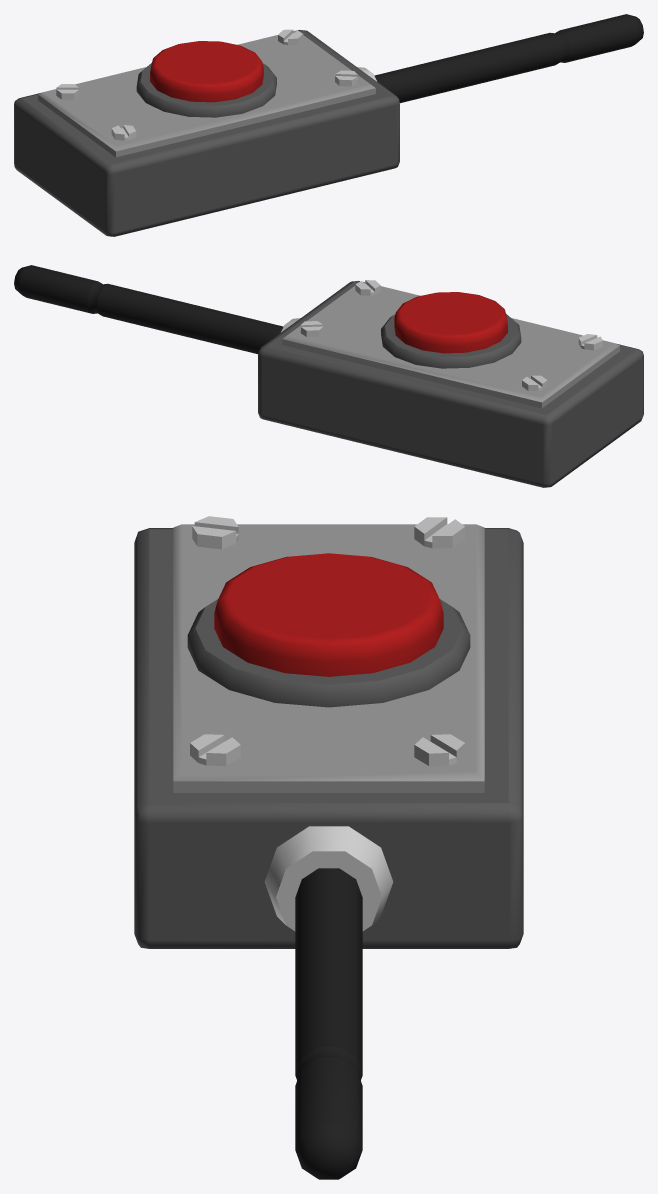
The model's file is Detonator.FBX.
The picture shows the model from 3 angles, top to bottom: view 1: azimuth 30°, elevation 25°; view 2: azimuth 150°, elevation 25°; view 3: azimuth 270°, elevation 25°; orthographic projection. The views are drawn at different scales.
Visible parts, largest first — view 1: Detonator, Button; view 2: Detonator, Button; view 3: Detonator, Button.
Boxes of the visible parts, <box> form: Detonator: <box>14,14,643,236</box>; Button: <box>150,41,263,102</box>; Detonator: <box>14,265,643,487</box>; Button: <box>394,292,507,353</box>; Detonator: <box>134,516,523,1179</box>; Button: <box>214,553,443,676</box>.
Bounding box in the file's own units: 209 × 36.82 × 60.52.
